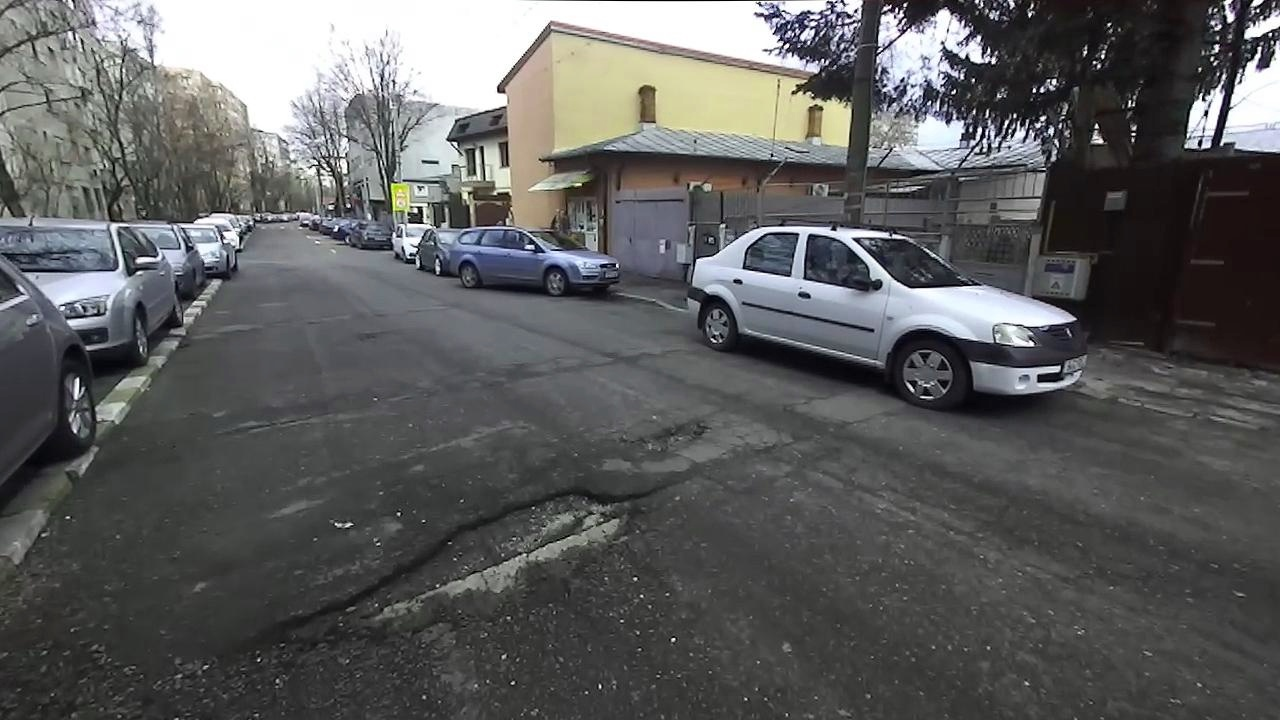pothole: (234, 473, 677, 659), (616, 408, 714, 455), (212, 406, 324, 442)
